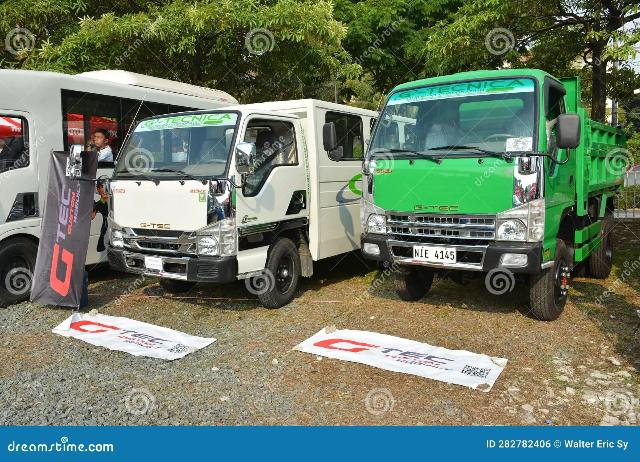pickup-truck: (321, 65, 629, 305), (67, 98, 366, 308)
